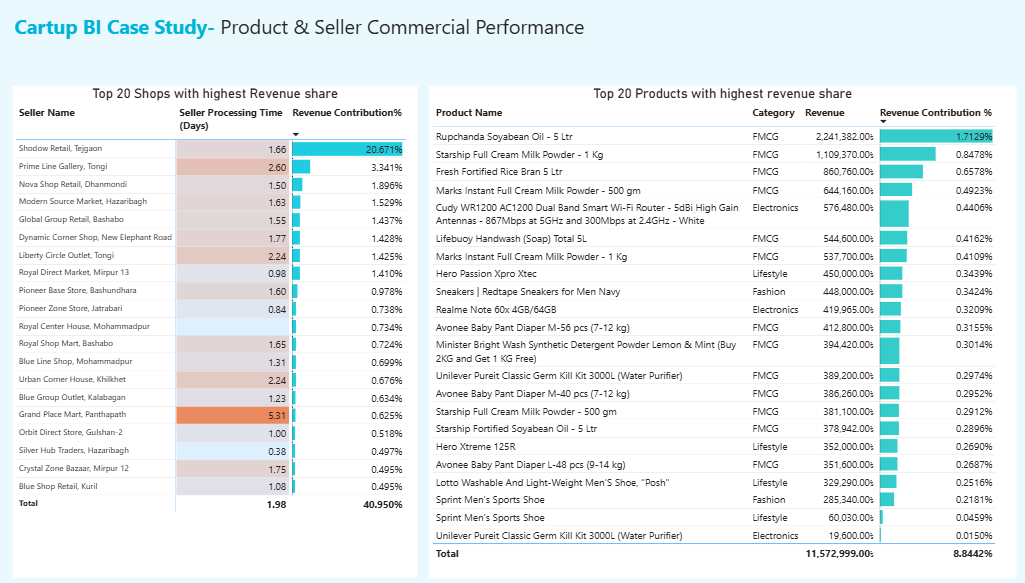

Layout of this report page (visuals, bound fields, positions):
{"tool":"powerbi","page":{"name":"Question 5- ","canvas":[1680,1680],"ordinal":6},"visuals":[{"type":"textbox","box":[21,21,1090.3,74.2],"z":0},{"type":"tableEx","title":"Top 20 Products with highest revenue share","fields":{"Values":["DimProducts.productname","DimProducts.category","_M6.Delivered_Revenue","_M5.Revenue Contribution %"]},"box":[707.1,144.6,960.7,803.6],"z":1000},{"type":"pivotTable","title":"Top 20 Shops with highest Revenue share","fields":{"Rows":["DimShops.registered_shop_name"],"Values":["_Measures.Seller Processing Time (Days)","_M5.Revenue Contribution(shop) %"]},"box":[23.2,144.6,660.7,803.6],"z":2000}]}

Visuals, with their boxes on the page's 1680x1680 design canvas (x1, y1, x2, y2). These are canvas units, not pixel positions in the 1025x583 screenshot, which may show the page scaled, cropped or inside an application window:
textbox: box(21, 21, 1111, 95)
"Top 20 Products with highest revenue share" tableEx: box(707, 145, 1668, 948)
"Top 20 Shops with highest Revenue share" pivotTable: box(23, 145, 684, 948)
